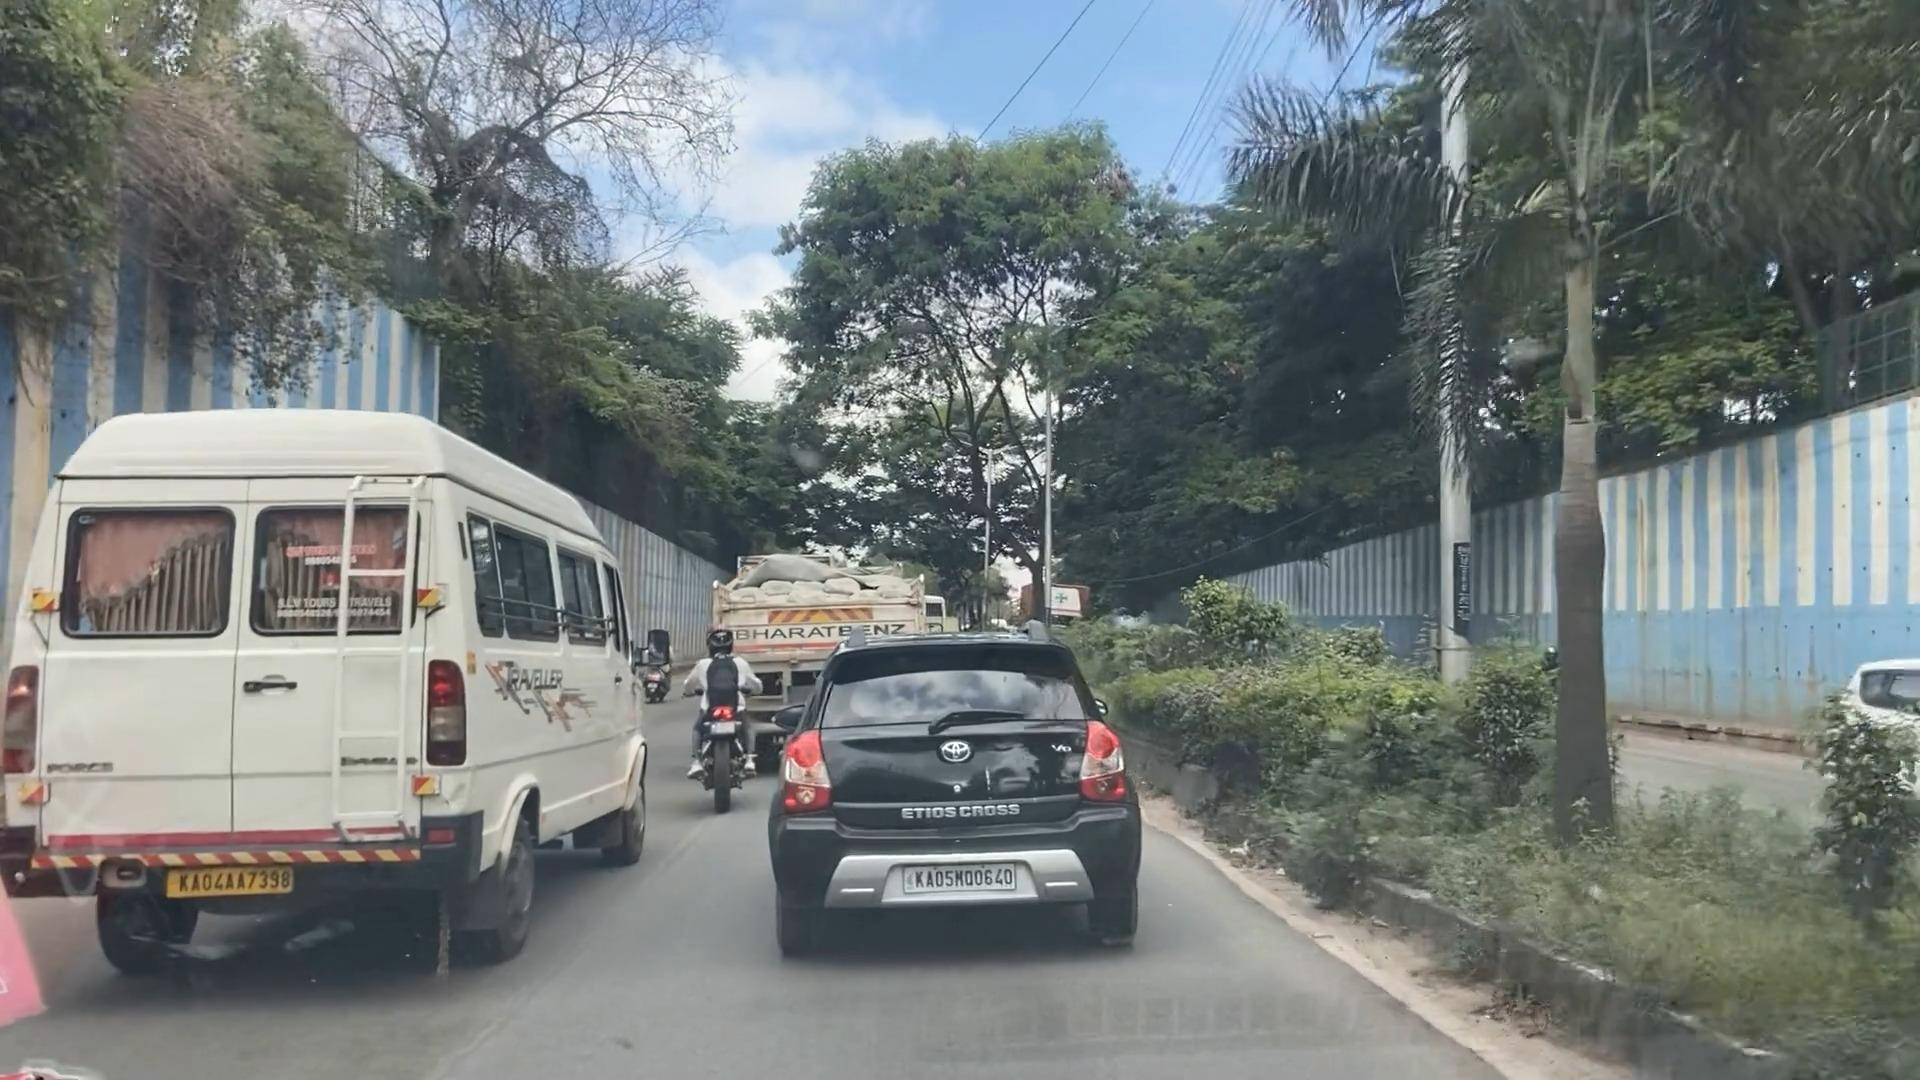HMV: (0, 406, 654, 1000)
LMV: (728, 617, 1151, 1001), (686, 609, 773, 818)
